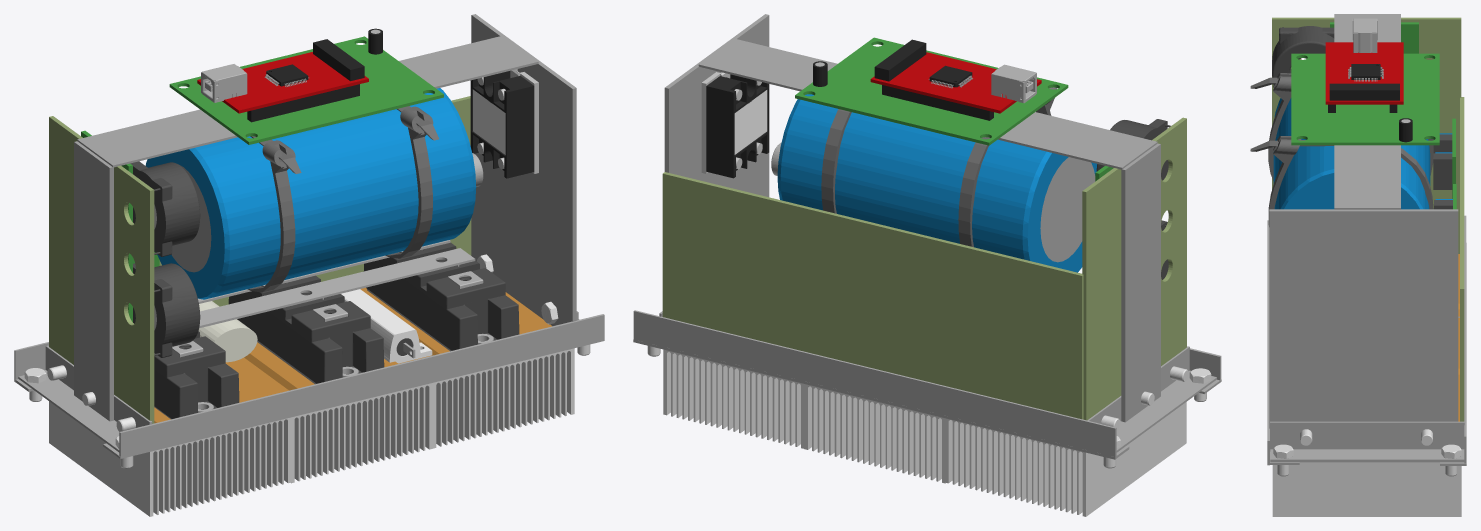
3 views of the same model, side by side, from view 1: azimuth 30°, elevation 25°; view 2: azimuth 150°, elevation 25°; view 3: azimuth 270°, elevation 25° (orthographic). The views are drawn at different scales.
Visible parts, largest first — view 1: Cylinder.004, PlateRight, inverterBoard, Cube.004, Heatsink1, Angle1, Heatsink2, Heatsink3, PlateLeft, IGBT3, IGBT2, PlateTop (+13 smaller); view 2: Cube.005, Cylinder.004, inverterBoard, Angle2, Cube.004, Heatsink1, PlateLeft, Heatsink2, Heatsink3, PlateTop, PlateRight, Contactor (+5 smaller); view 3: PlateRight, inverterBoard, Heatsink3, Angle1.002, PlateTop, Cylinder.004, Cube.004, iL1, ZipTie1, Cube.005, Cube.006, ZipTie2 (+6 smaller).
Part boxes in pixels (<box>): Cylinder.004: <box>145,88,483,299</box>; PlateRight: <box>471,14,576,326</box>; inverterBoard: <box>169,28,443,144</box>; Cube.004: <box>49,116,154,423</box>; Heatsink1: <box>49,362,291,516</box>; Angle1: <box>103,314,604,458</box>; Heatsink2: <box>230,342,432,483</box>; Heatsink3: <box>360,287,574,448</box>; PlateLeft: <box>74,141,113,421</box>; IGBT3: <box>363,242,519,351</box>; IGBT2: <box>228,275,384,384</box>; PlateTop: <box>77,35,538,167</box>; Cube.005: <box>662,172,1083,419</box>; Cylinder.004: <box>771,94,1097,272</box>; inverterBoard: <box>795,37,1068,145</box>; Angle2: <box>633,310,1129,459</box>; Cube.004: <box>1082,117,1186,420</box>; Heatsink1: <box>945,402,1186,516</box>; PlateLeft: <box>1121,143,1160,422</box>; Heatsink2: <box>804,384,945,483</box>; Heatsink3: <box>663,349,804,448</box>; PlateTop: <box>698,38,1157,169</box>; PlateRight: <box>664,14,769,197</box>; Contactor: <box>701,72,769,178</box>; PlateRight: <box>1269,209,1458,428</box>; inverterBoard: <box>1291,18,1439,145</box>; Heatsink3: <box>1272,382,1461,516</box>; Angle1.002: <box>1270,421,1464,462</box>; PlateTop: <box>1334,14,1400,209</box>; Cylinder.004: <box>1273,98,1430,209</box>; Cube.004: <box>1272,17,1461,253</box>; iL1: <box>1272,26,1334,84</box>; ZipTie1: <box>1250,136,1433,226</box>; Cube.005: <box>1460,97,1464,421</box>; Cube.006: <box>1433,118,1455,198</box>; ZipTie2: <box>1250,73,1433,180</box>.
Size of the model in its own units: 4.7 by 3.52 by 1.94.
